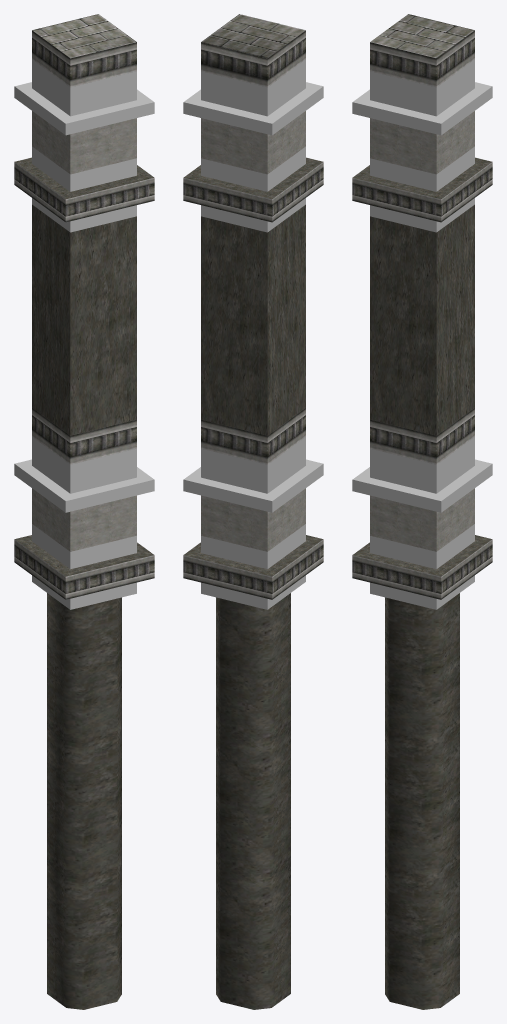
File: L_MOUNTAIN_WTRFALL_COLUMN01.obj
3 views of the same model, side by side, from view 1: azimuth 30°, elevation 25°; view 2: azimuth 150°, elevation 25°; view 3: azimuth 330°, elevation 25° (orthographic).
Visible parts, largest first — view 1: trfall_column01; view 2: trfall_column01; view 3: trfall_column01.
Boxes of the visible parts, box(x1,y1,x2,y2) form: trfall_column01: box(14, 14, 154, 1009); trfall_column01: box(183, 14, 323, 1009); trfall_column01: box(352, 14, 492, 1009).
Bounding box in the file's own units: 160 × 1650 × 160.
